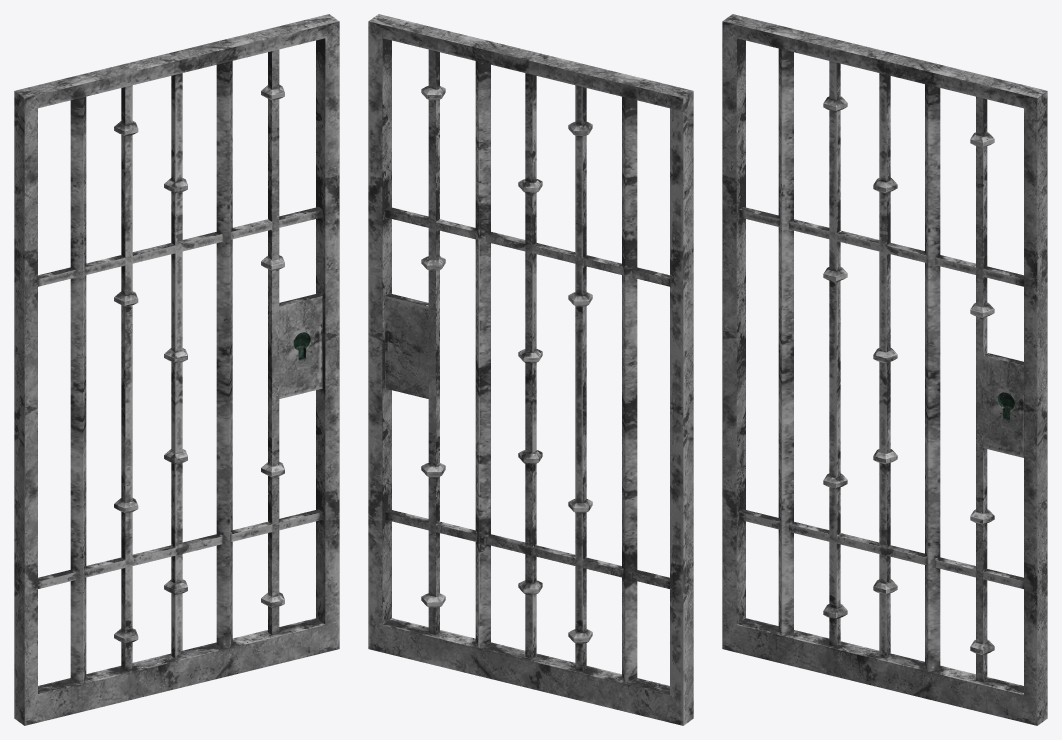
The model's file is metal gate.glb.
3 views of the same model, side by side, from view 1: azimuth 30°, elevation 25°; view 2: azimuth 150°, elevation 25°; view 3: azimuth 330°, elevation 25° (orthographic).
Parts seen in each view (by area): view 1: metal_gate2_pCube16; view 2: metal_gate2_pCube16; view 3: metal_gate2_pCube16.
Part boxes in pixels (x1,y1,x2,y2): metal_gate2_pCube16: (14, 14, 339, 725); metal_gate2_pCube16: (368, 14, 693, 725); metal_gate2_pCube16: (722, 14, 1047, 725).
Size of the model in its own units: 2.1 by 4.01 by 0.1364.
Materials: 1 (1 with a texture image).
